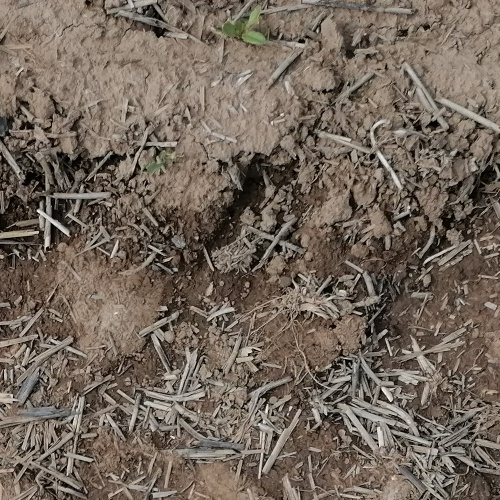beet: (222, 7, 269, 46)
